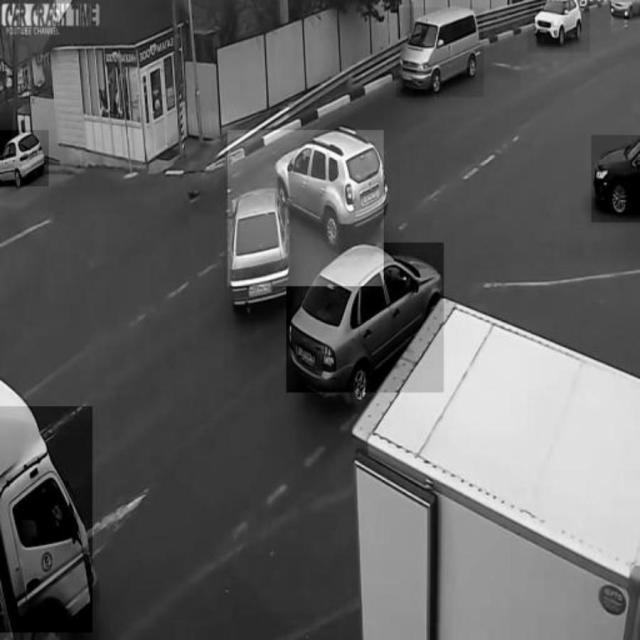accident: (228, 131, 384, 287)
vehicle: (287, 242, 444, 392), (0, 406, 92, 632), (396, 7, 484, 98), (591, 134, 640, 222), (528, 1, 590, 53), (0, 130, 48, 186)
